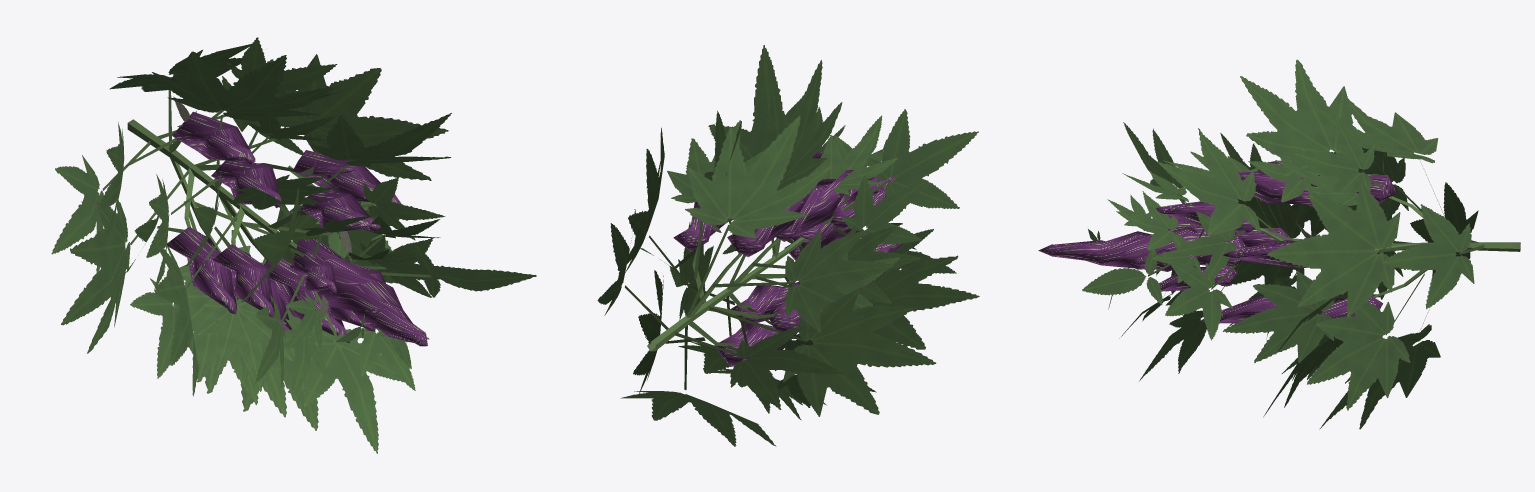
File: p_purple_tree_flowering_c0_cards.obj
The picture shows the model from 3 angles, left to right: view 1: azimuth 30°, elevation 25°; view 2: azimuth 150°, elevation 25°; view 3: azimuth 270°, elevation 25°; orthographic projection. The views are drawn at different scales.
Bounding box in the file's own units: 1.48 × 1.58 × 1.8.
1 material, 1 textured.
